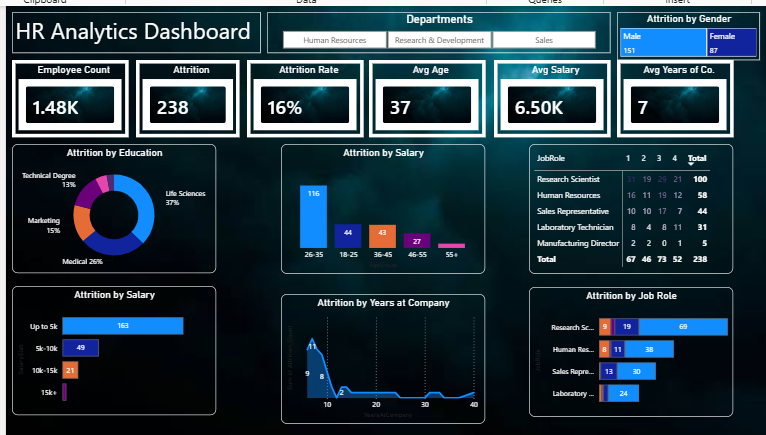

What the dashboard file says about the page in this screenshot:
{"tool":"powerbi","page":{"name":"Page 1","canvas":[1280,720],"ordinal":0},"visuals":[{"type":"cardVisual","title":"Employee Count","fields":{"Data":["CountNonNull(HR_Data.EmpID)"]},"box":[10.1,90.7,195.8,129.6],"z":0},{"type":"cardVisual","title":"Attrition ","fields":{"Data":["Sum(HR_Data.Attrition_Count)"]},"box":[218.9,90.7,174.2,129.6],"z":1000},{"type":"cardVisual","title":"Attrition Rate","fields":{"Data":["HR_Data.Atrition_Rate"]},"box":[404.6,90.7,195.8,129.6],"z":2000},{"type":"cardVisual","title":"Avg Age","fields":{"Data":["Avg(HR_Data.Age)"]},"box":[610.6,90.7,195.8,129.6],"z":3000},{"type":"cardVisual","title":"Avg Salary","fields":{"Data":["Avg(HR_Data.MonthlyIncome)"]},"box":[819.4,90.7,195.8,129.6],"z":4000},{"type":"cardVisual","title":"Avg Years of Co.","fields":{"Data":["Avg(HR_Data.YearsAtCompany)"]},"box":[1026.7,90.7,195.8,129.6],"z":5000},{"type":"textbox","box":[10.1,10.1,417.6,69.1],"z":6000},{"type":"slicer","title":"Departments","fields":{"Values":["Departments.Department"]},"box":[437.8,10.1,577.4,69.1],"z":7000},{"type":"treemap","title":"Attrition by Gender ","fields":{"Group":["HR_Data.Gender"],"Values":["Sum(HR_Data.Attrition_Count)"]},"box":[1026.7,10.1,240.5,80.6],"z":8000},{"type":"donutChart","title":"Attrition by Education","fields":{"Category":["Education.Education"],"Y":["Sum(HR_Data.Attrition_Count)"]},"box":[10.1,231.8,342.7,217.4],"z":9000},{"type":"barChart","title":"Attrition by Salary","fields":{"Y":["Sum(HR_Data.Attrition_Count)"],"Category":["HR_Data.SalarySlab"],"Series":["HR_Data.SalarySlab"]},"box":[10.1,470.9,342.7,217.4],"z":10000},{"type":"pivotTable","title":"Attrition by Education","fields":{"Values":["Sum(HR_Data.Attrition_Count)"],"Rows":["Jobs.JobRole"],"Columns":["HR_Data.JobSatisfaction"]},"box":[879,231.3,342.7,217.6],"z":11000},{"type":"columnChart","title":"Attrition by Salary","fields":{"Y":["Sum(HR_Data.Attrition_Count)"],"Category":["HR_Data.AgeGroup"],"Series":["HR_Data.AgeGroup"]},"box":[462.7,231.3,342.7,217.6],"z":12000},{"type":"stackedAreaChart","title":"Attrition by Years at Company","fields":{"Category":["HR_Data.YearsAtCompany"],"Y":["Sum(HR_Data.Attrition_Count)"]},"box":[462.7,483.2,342.7,217.6],"z":13000},{"type":"barChart","title":"Attrition by Job Role","fields":{"Y":["Sum(HR_Data.Attrition_Count)"],"Series":["HR_Data.SalarySlab"],"Category":["Jobs.JobRole"]},"box":[879,471.2,342.7,217.6],"z":14000}]}

Visuals, with their boxes in screenshot pixels (x1, y1, x2, y2):
"Employee Count" cardVisual: 14/58/129/134
"Attrition " cardVisual: 137/58/240/134
"Attrition Rate" cardVisual: 247/58/362/134
"Avg Age" cardVisual: 368/58/484/134
"Avg Salary" cardVisual: 492/58/607/134
"Avg Years of Co." cardVisual: 614/58/729/134
textbox: 14/10/260/51
"Departments" slicer: 266/10/607/51
"Attrition by Gender " treemap: 614/10/756/58
"Attrition by Education" donutChart: 14/141/216/269
"Attrition by Salary" barChart: 14/282/216/410
"Attrition by Education" pivotTable: 527/140/729/269
"Attrition by Salary" columnChart: 281/140/483/269
"Attrition by Years at Company" stackedAreaChart: 281/289/483/418
"Attrition by Job Role" barChart: 527/282/729/410
